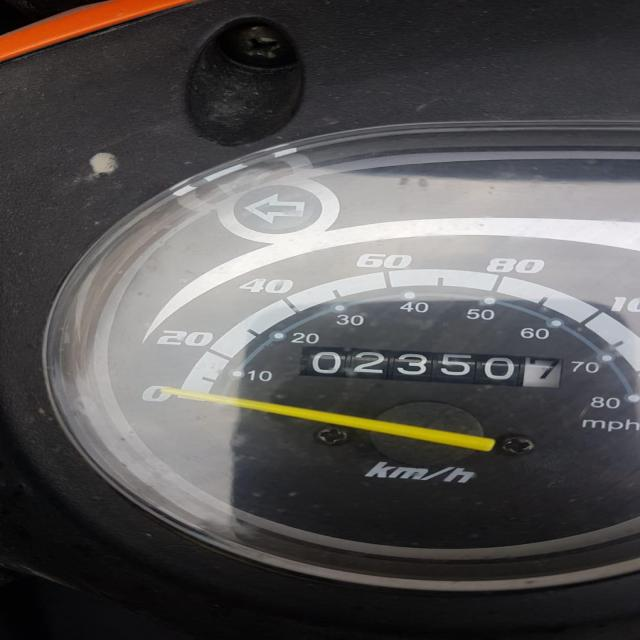odometer: (292, 345, 568, 391)
